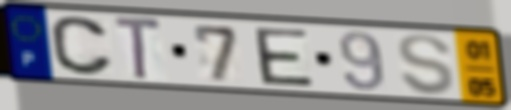7: (190, 23, 242, 83)
9: (336, 29, 388, 94)
C: (47, 14, 117, 78)
E: (250, 26, 317, 90)
S: (395, 32, 458, 98)
T: (111, 13, 165, 83)
